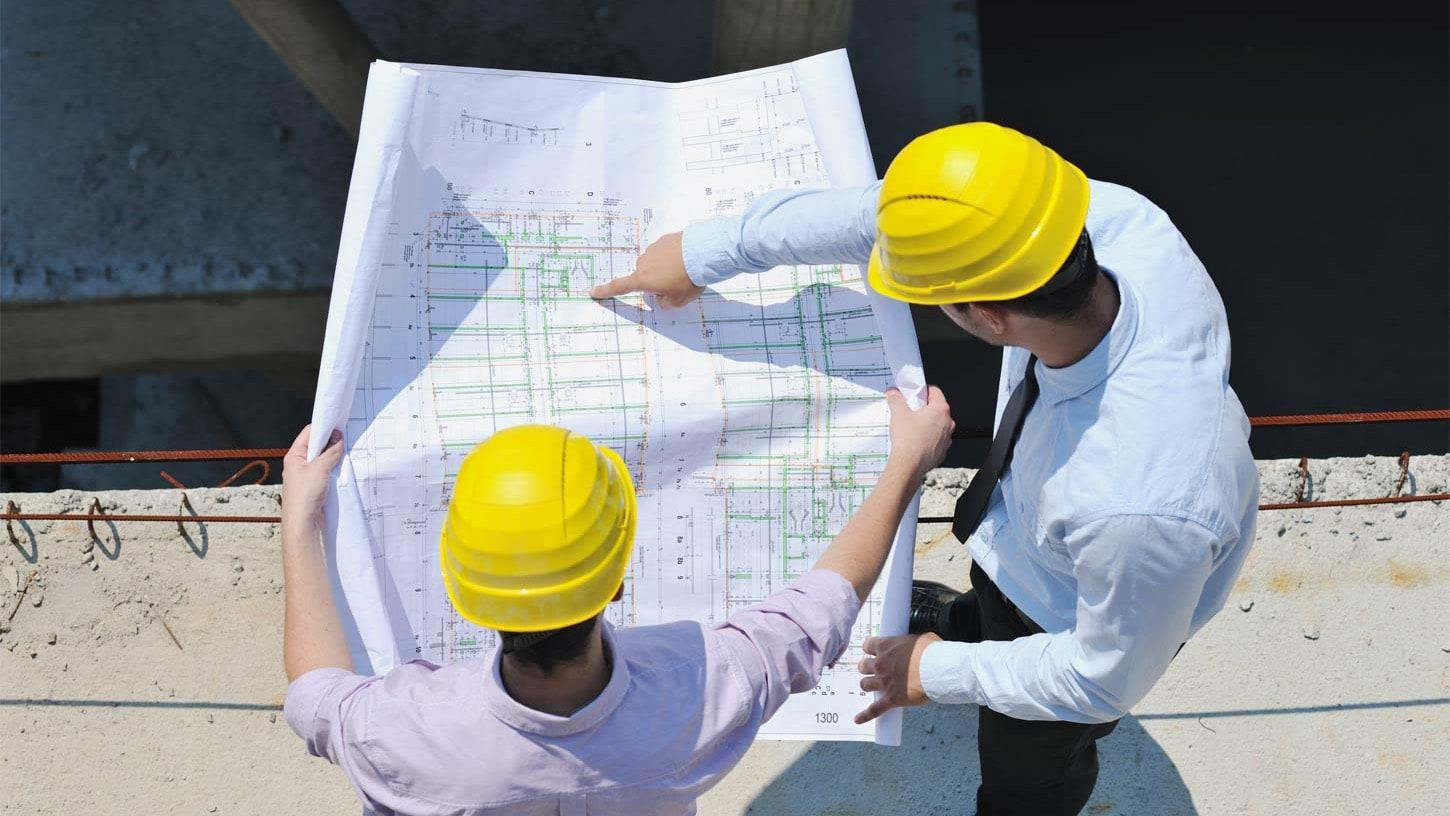helmet: (868, 121, 1092, 305), (443, 422, 641, 625)
